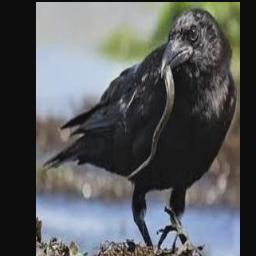Crow: (41, 8, 237, 249)
